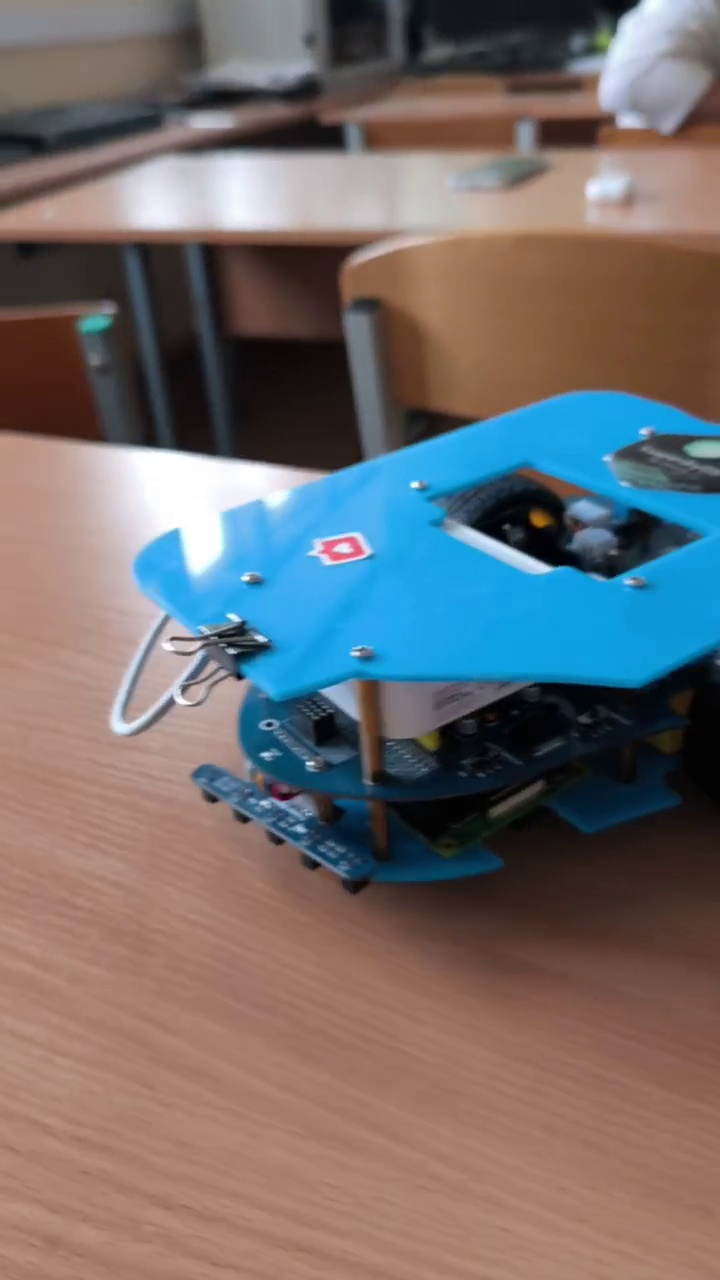robot: (110, 388, 720, 897)
